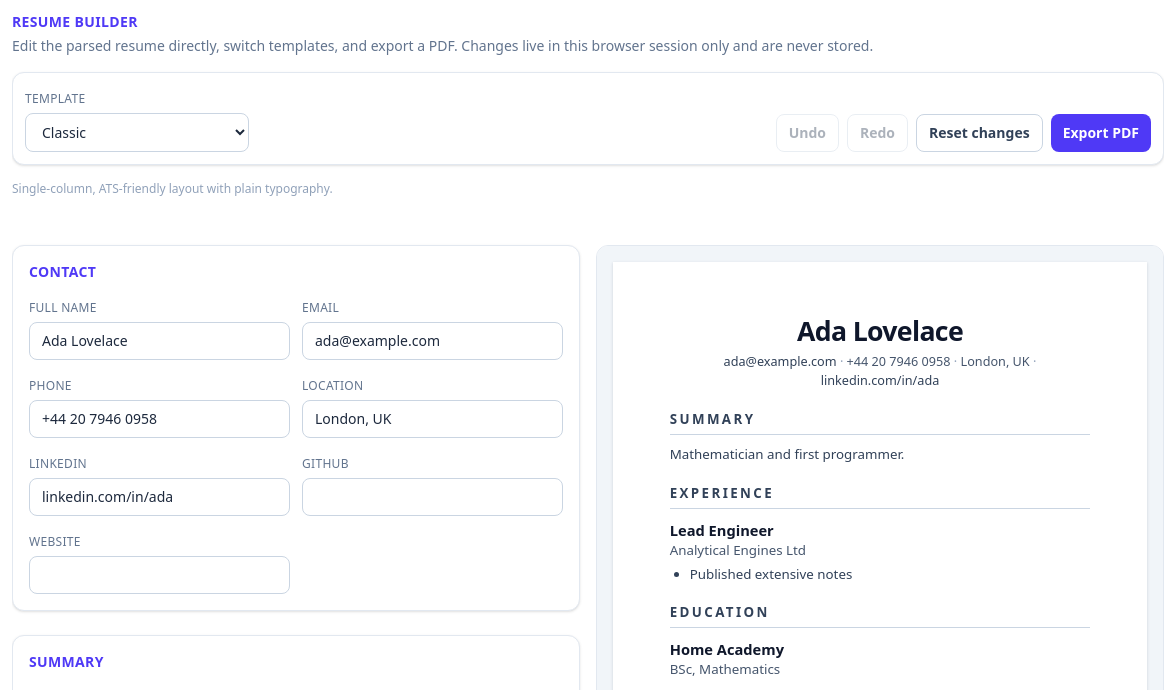
ResumeBuilder › updates the preview when a field is edited
Replace the text in the field labelled "Full name" with "Ada L.": coordinates (160, 341) [29,322,290,360]
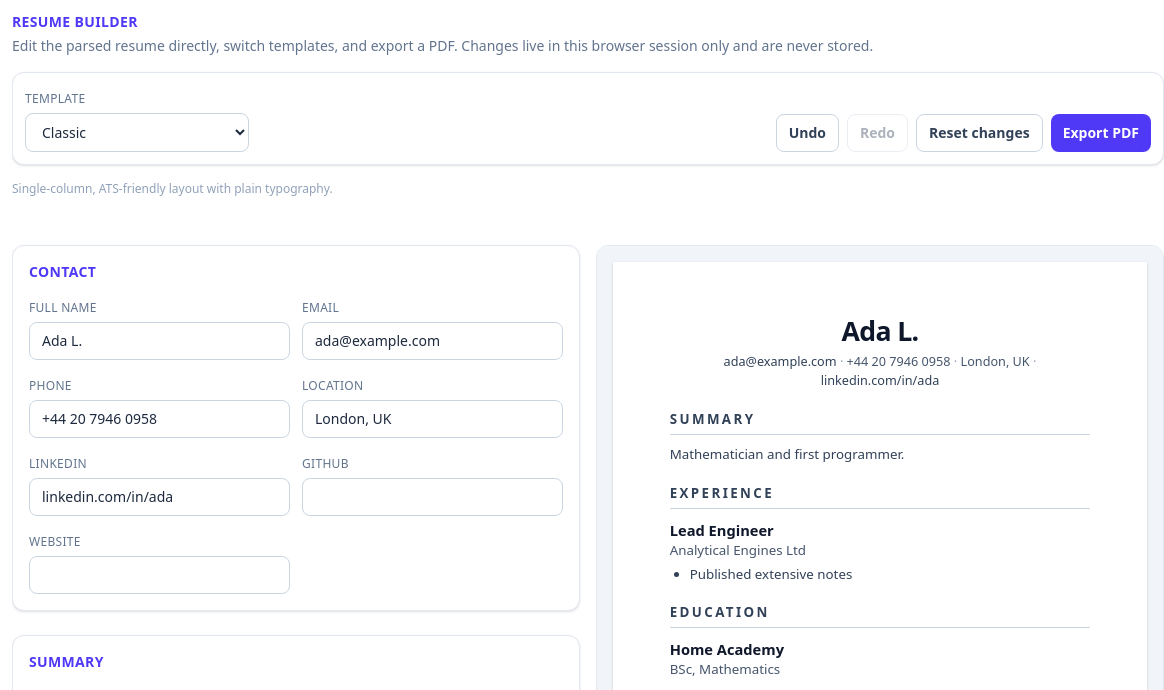
Expected: the heading "Ada L." is shown, [842,313,918,349]
Expected: the button "Undo" is enabled, [776,114,839,152]
